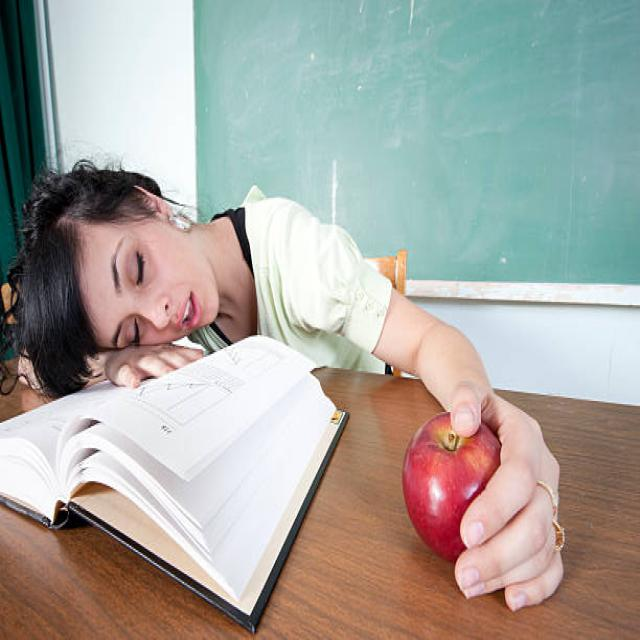Sleepy: (77, 216, 220, 346)
